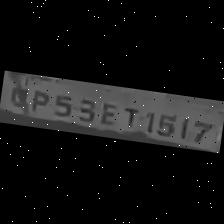1: (175, 114, 194, 141), (140, 107, 158, 134)
3: (73, 96, 99, 124)
5: (48, 91, 76, 119), (150, 110, 178, 138)
7: (188, 116, 214, 144)
E: (96, 99, 120, 128)
P: (27, 86, 51, 114)
T: (118, 104, 143, 132)
U: (3, 82, 31, 112)
